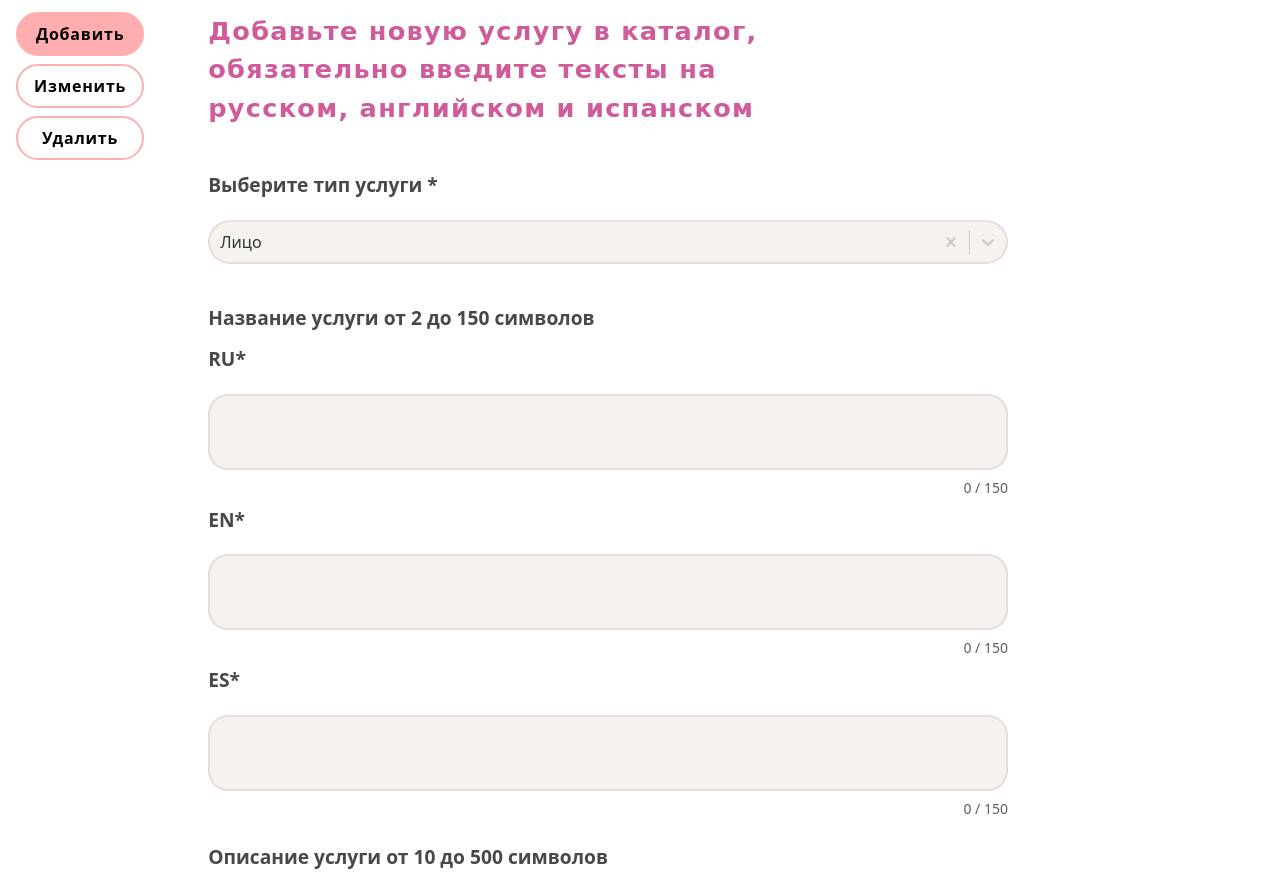
Test: DashboardPanel — change-service form › fills every field with the saved values of the chosen service
Click the button "Изменить".
click(80, 86)  # box [16, 64, 144, 108]
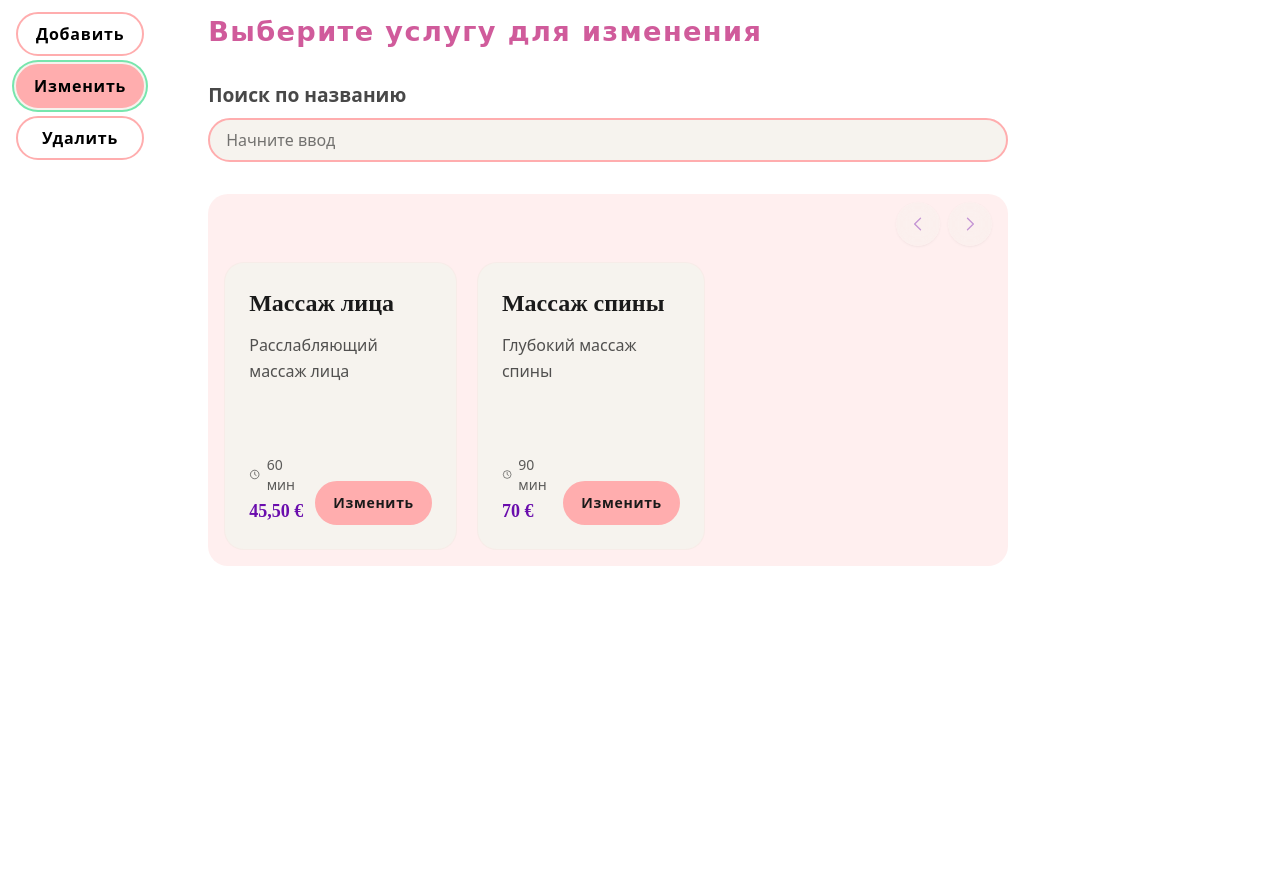
Click the button with aria-label "Изменить: Массаж спины".
click(622, 503)  # box [563, 481, 680, 525]
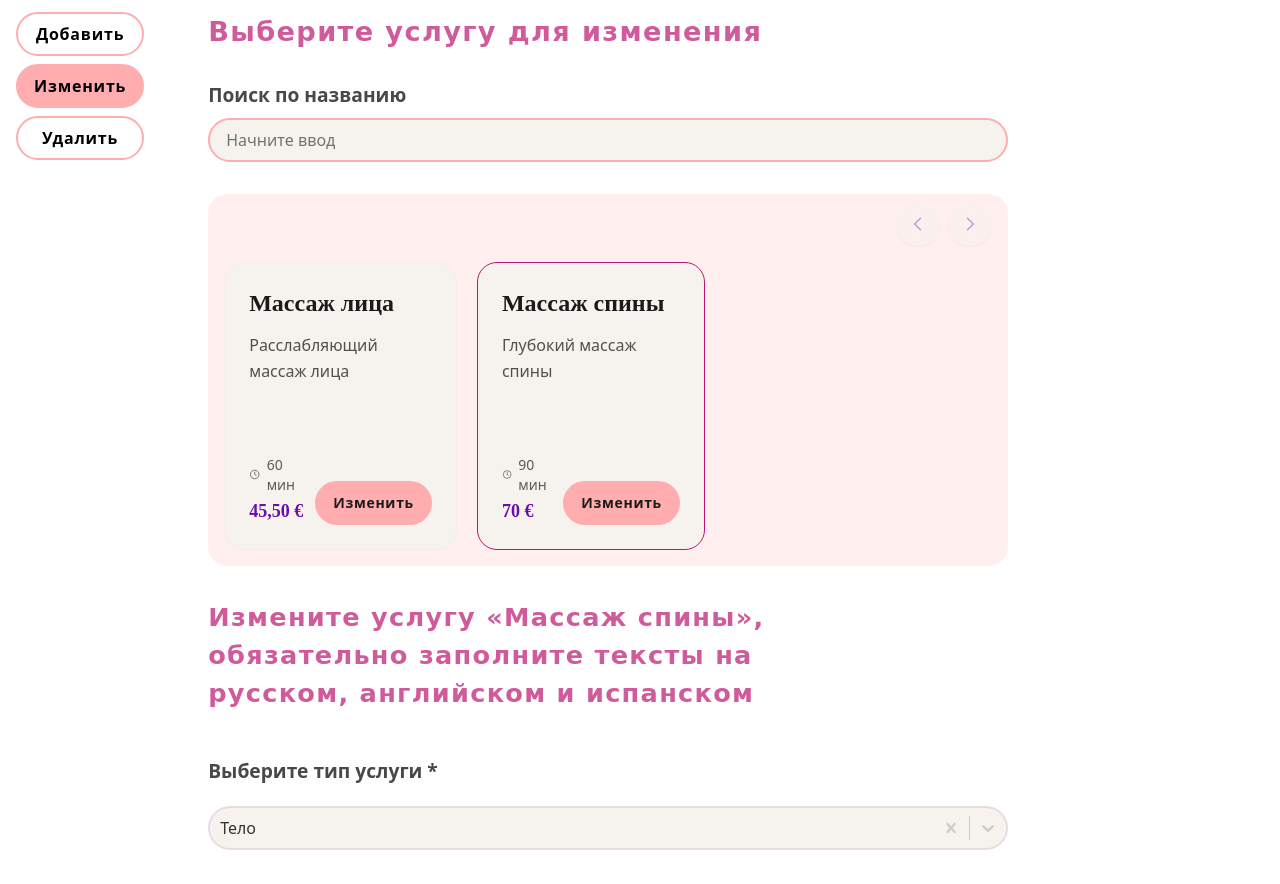
Now the text "Тело" is shown, box [220, 817, 256, 839]
